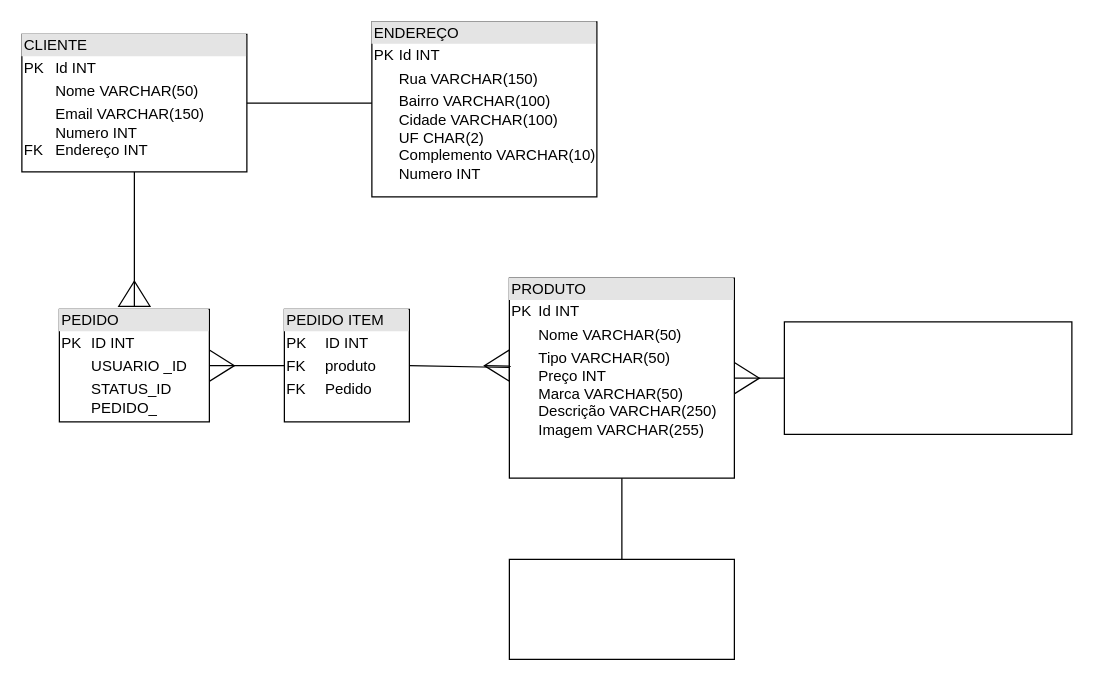
Image size: 1094x681. Some labels were removed from this diagram. Each missing label, with the centre of its shape:
"CATEGORIA PK ID INT CATEGORIA_NOME VARCHAR(50) CATEGORIA_DESC VARCHAR(150)" belongs at pixel 927 377.
"ESTOQUE PK Id INT FK1 produto Quantidade INT" belongs at pixel 621 608.
